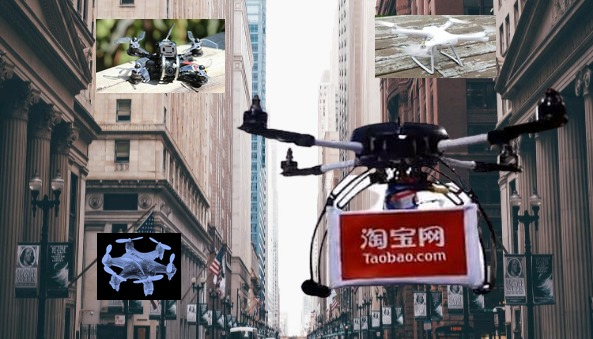drone: (236, 88, 568, 298), (96, 19, 225, 93), (375, 15, 496, 78), (97, 233, 181, 300)
